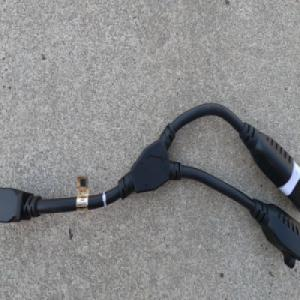Wire: (0, 100, 300, 269)
